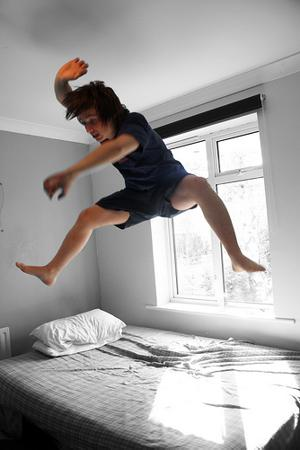person: (14, 57, 266, 290)
